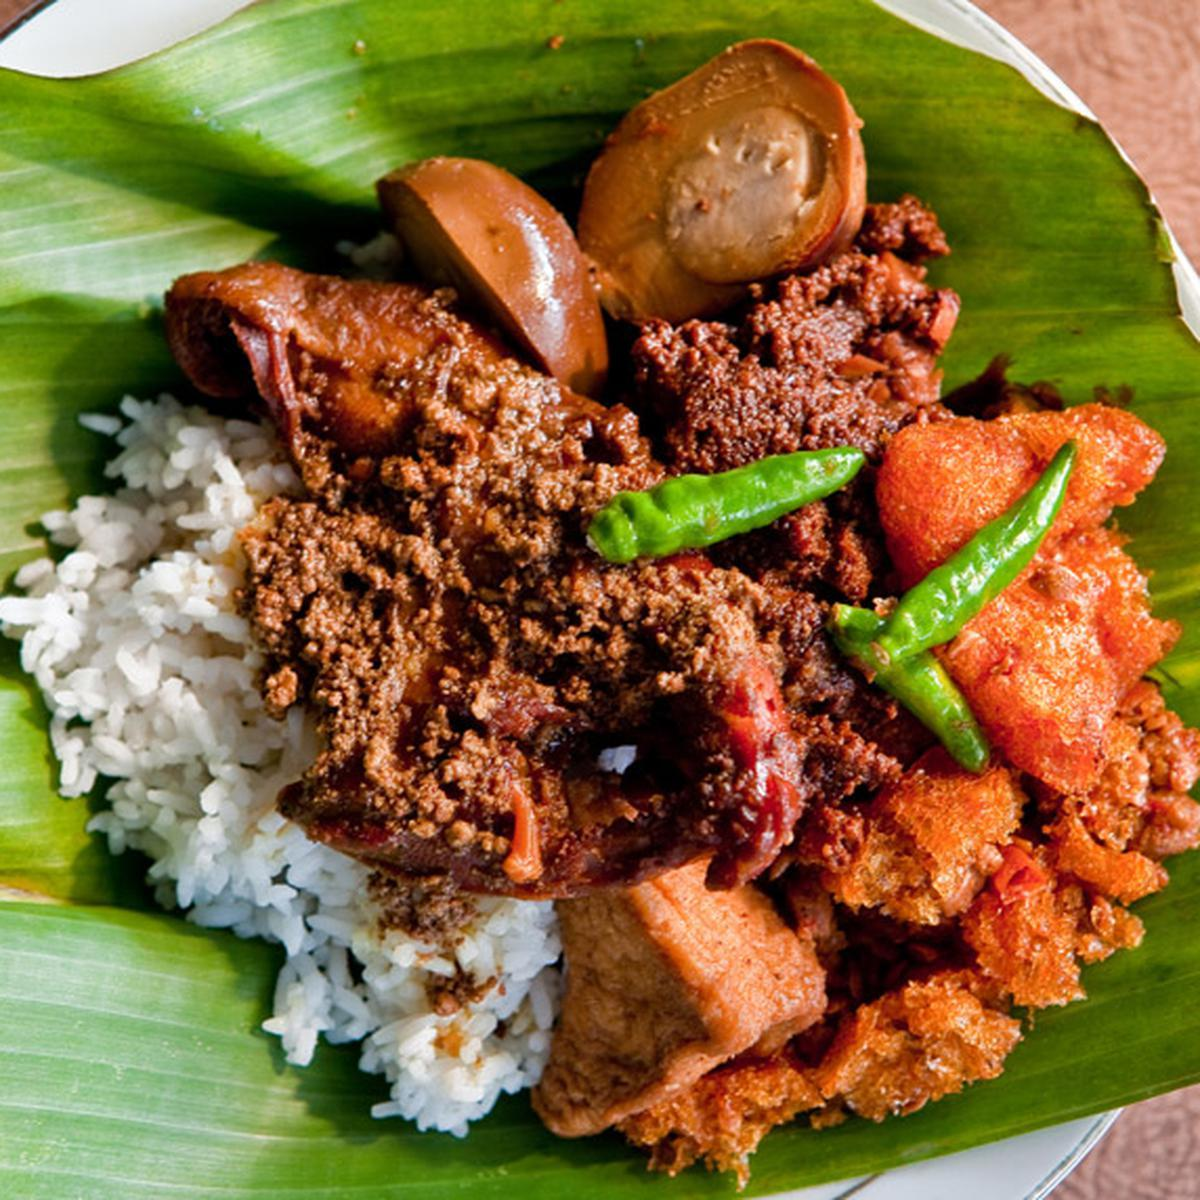gudeg: (159, 42, 1200, 1167)
